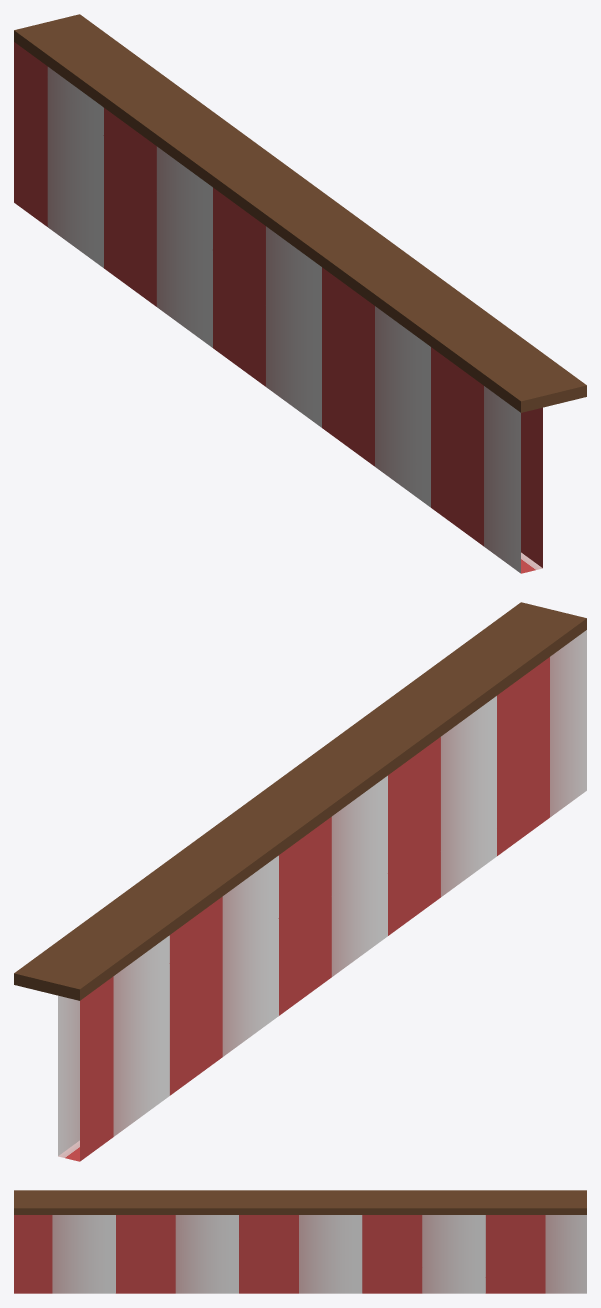
The model's file is LowWall.fbx.
3 views of the same model, one above another, from view 1: azimuth 30°, elevation 25°; view 2: azimuth 150°, elevation 25°; view 3: azimuth 270°, elevation 25° (orthographic). The views are drawn at different scales.
Parts seen in each view (by area): view 1: Muren_Kraam; view 2: Muren_Kraam; view 3: Muren_Kraam.
Boxes of the visible parts, box(x1,y1,x2,y2) form: Muren_Kraam: box(14, 14, 586, 573); Muren_Kraam: box(14, 602, 586, 1161); Muren_Kraam: box(14, 1190, 586, 1293).
Size of the model in its own units: 30 by 75 by 400.
2 materials, 1 textured.
